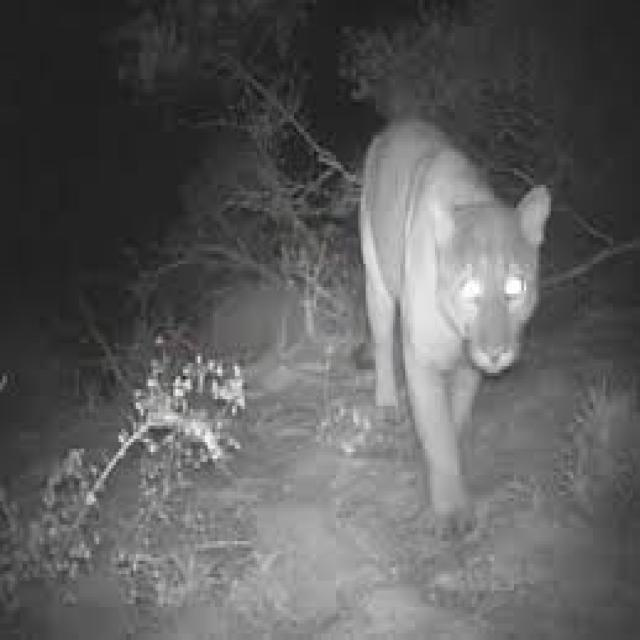Jaguar: (361, 118, 551, 538)
